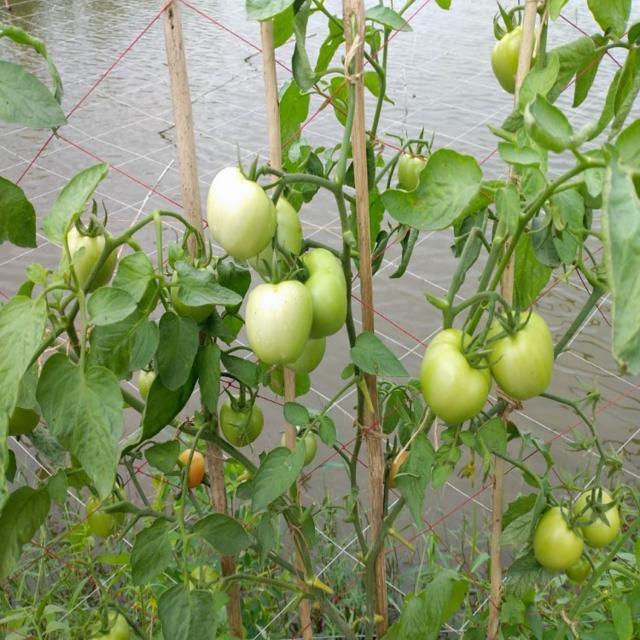tomato: (487, 299, 566, 404), (421, 322, 494, 425), (207, 161, 279, 257), (297, 243, 354, 340), (249, 273, 306, 367), (519, 501, 584, 573), (263, 189, 310, 281), (486, 24, 538, 95), (580, 477, 627, 554), (61, 224, 105, 285), (284, 322, 330, 374), (222, 397, 266, 451), (389, 145, 430, 188), (86, 487, 116, 530), (184, 448, 217, 487), (300, 427, 320, 461), (138, 359, 154, 396)
